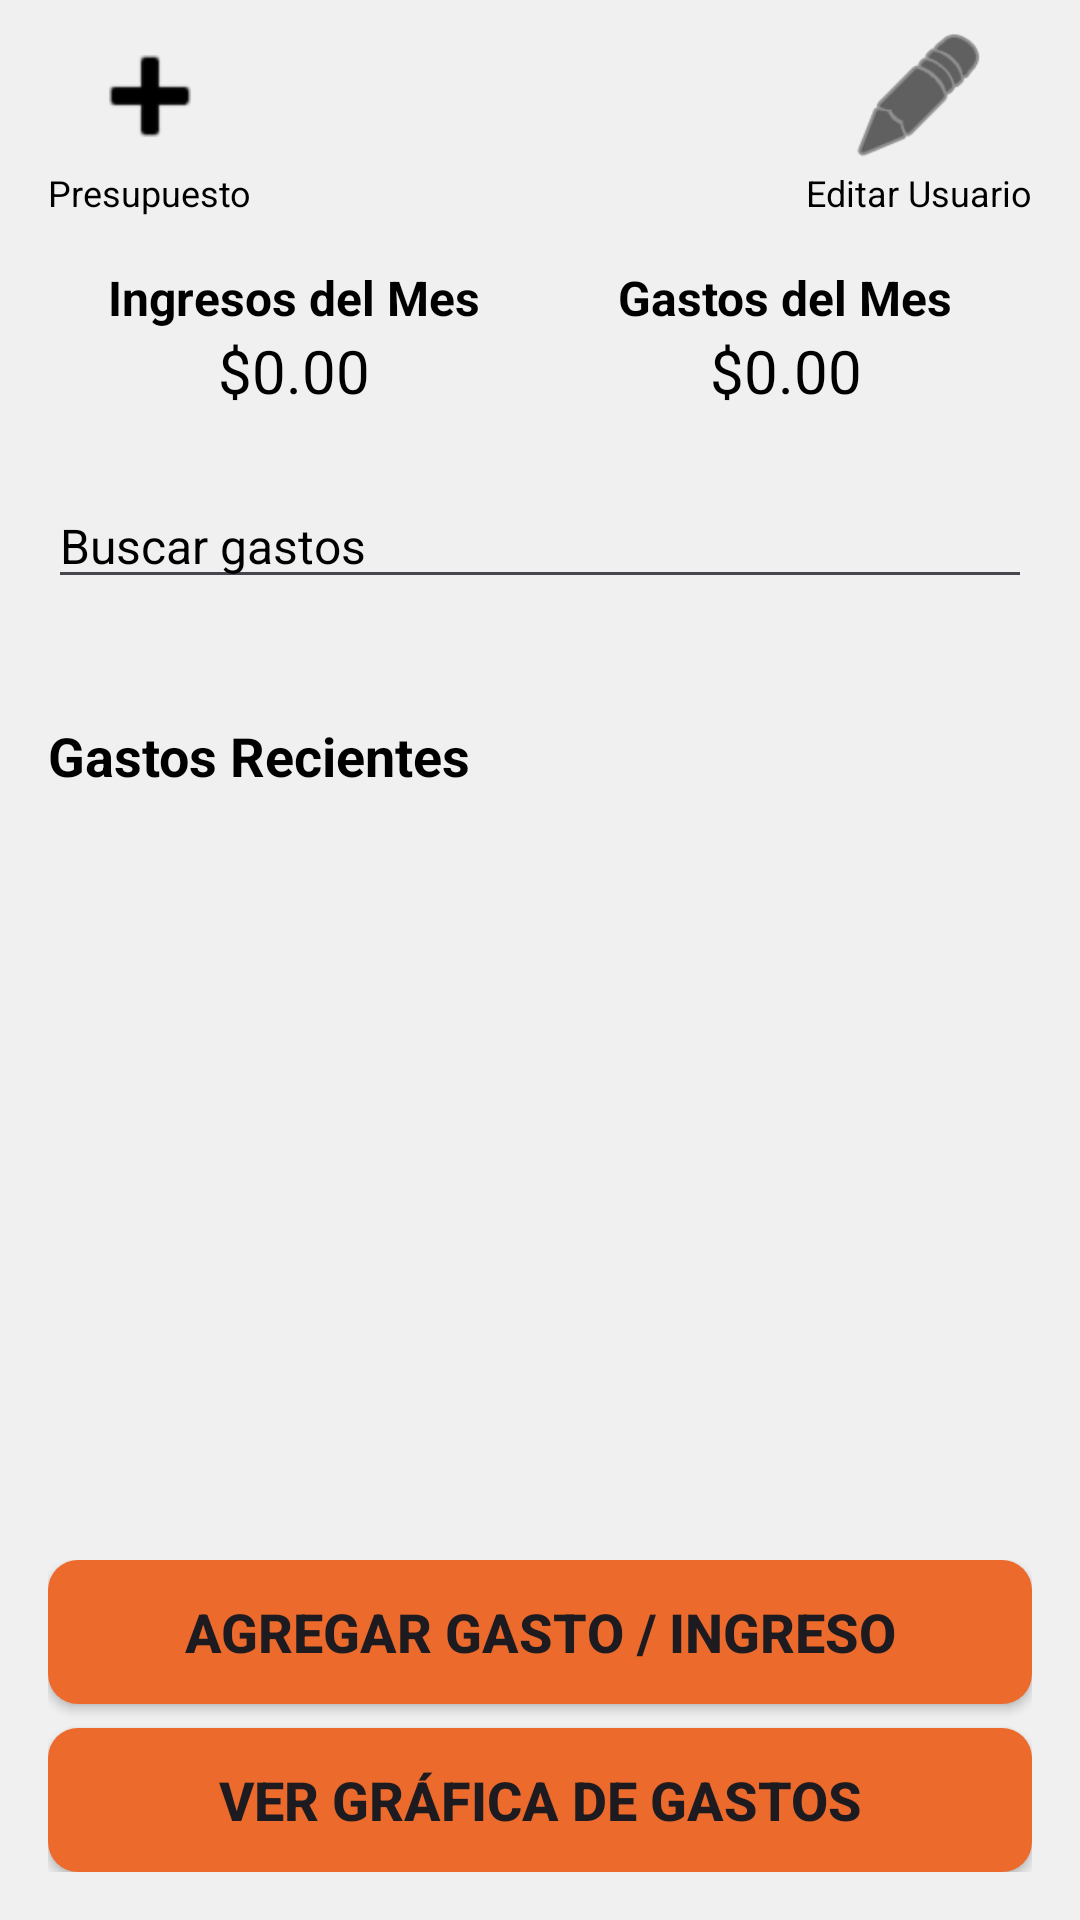

Named icons in this screenshot (1080×1920) and their bounding boxes, (left=x1, top=y1, right=x2, bottom=y2):
add: (left=109, top=55, right=191, bottom=137)
